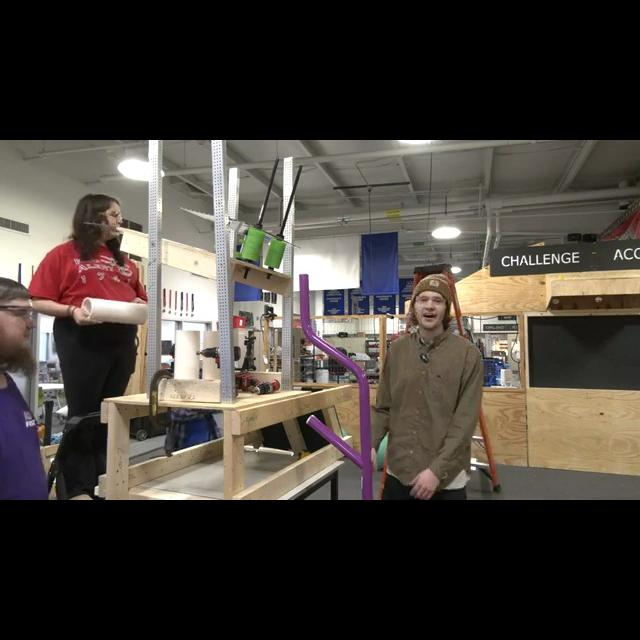CORAL: (80, 296, 148, 324), (176, 330, 200, 380)
